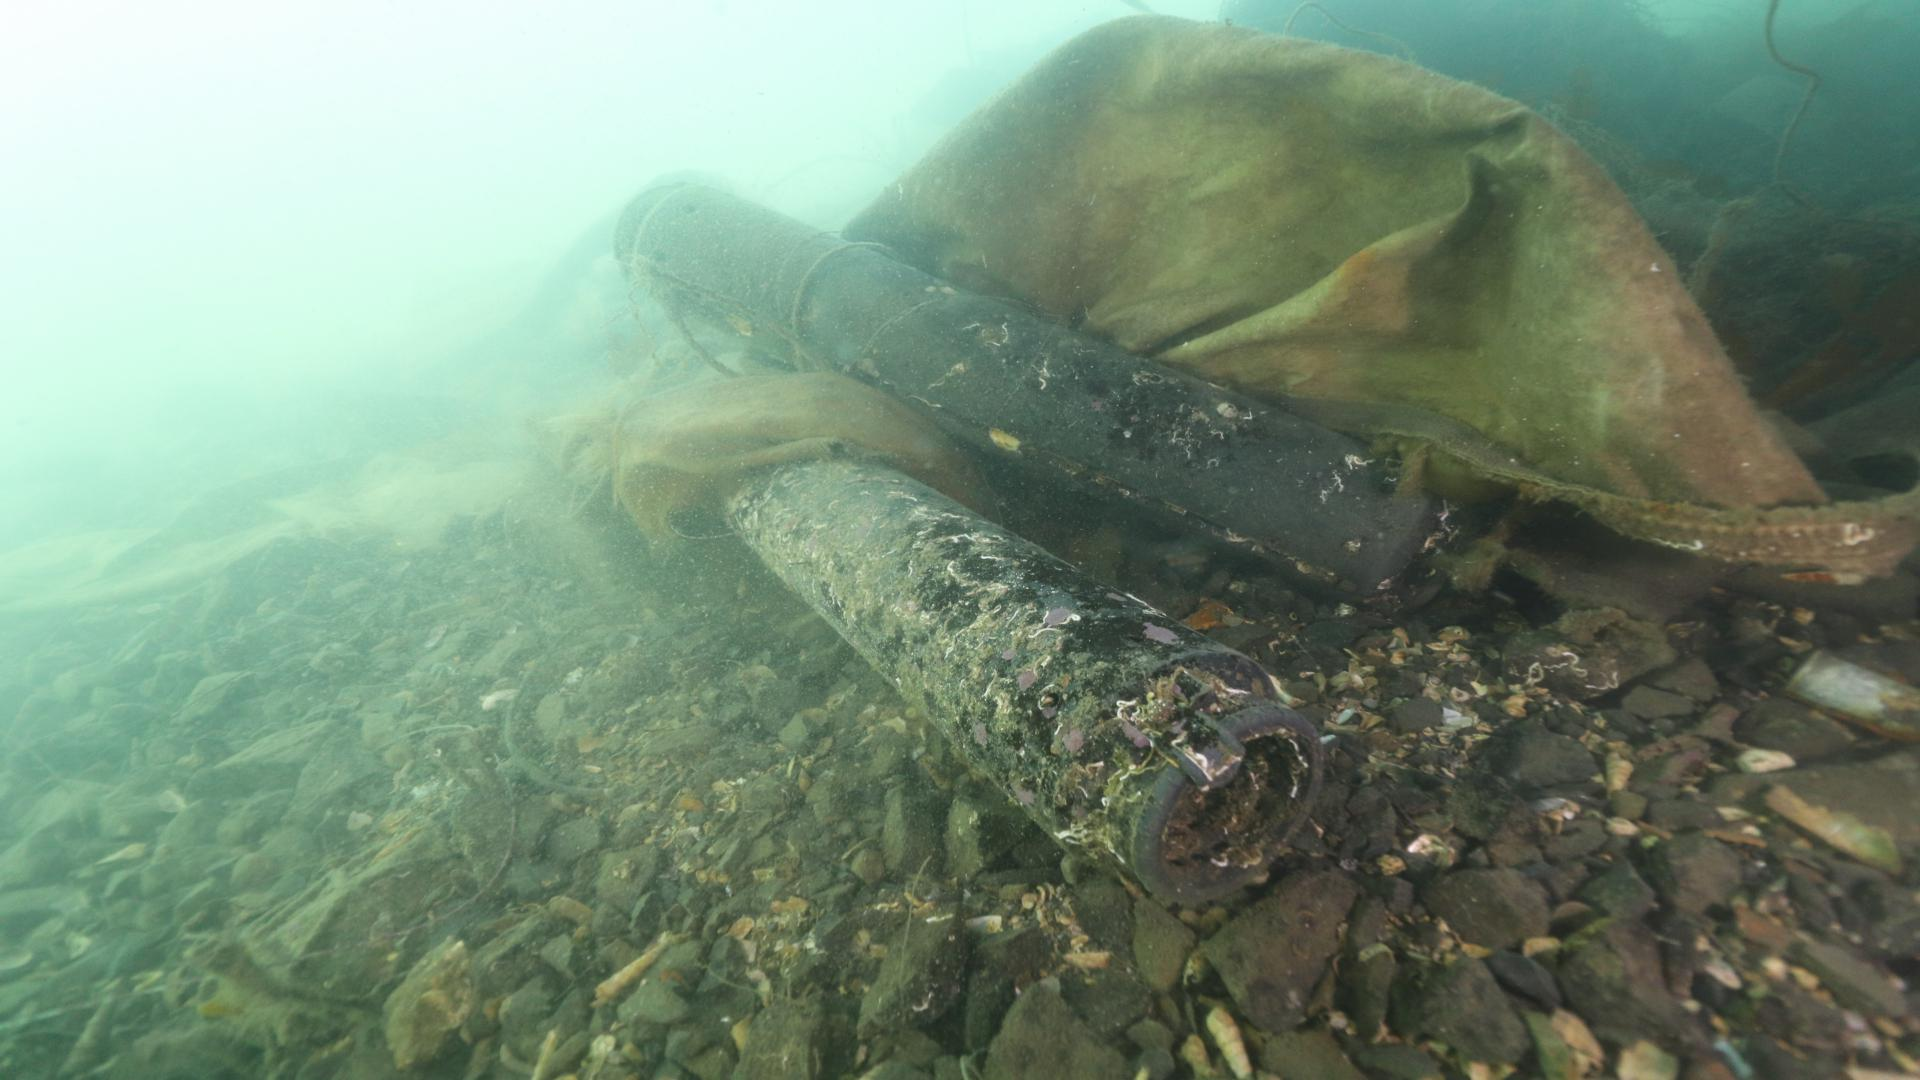bundle of ropes: (663, 235, 899, 378)
eel fish trap: (608, 173, 1472, 611), (717, 462, 1327, 905)
